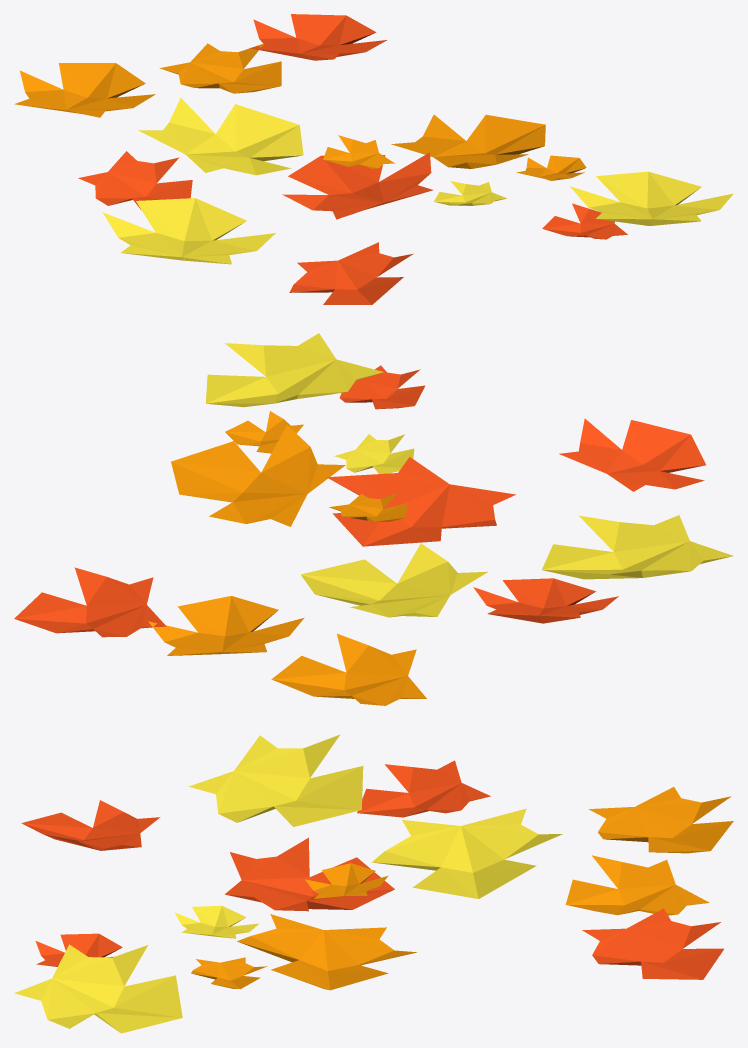
File: leaf_group1.obj
The picture shows the model from 3 angles, top to bottom: view 1: azimuth 30°, elevation 25°; view 2: azimuth 150°, elevation 25°; view 3: azimuth 270°, elevation 25°; orthographic projection. The views are drawn at different scales.
Parts seen in each view (by area): view 1: group1173903527.006, group1173903527.008, group1173903527.001, group1173903527.003, group1173903527.002, group1173903527.011, group1173903527.012, group1173903527.007, group1173903527.005, group1173903527.004, group1173903527.010, group1173903527.023 (+2 smaller); view 2: group1173903527.002, group1173903527.001, group1173903527.008, group1173903527.003, group1173903527.006, group1173903527.012, group1173903527.011, group1173903527.007, group1173903527.005, group1173903527.004, group1173903527.010, group1173903527.020 (+2 smaller); view 3: group1173903527.008, group1173903527.006, group1173903527.003, group1173903527.002, group1173903527.007, group1173903527.011, group1173903527.001, group1173903527.005, group1173903527.004, group1173903527.012, group1173903527.023, group1173903527.020 (+2 smaller).
Boxes of the visible parts, x1,y1,x2,y2 form: group1173903527.006: [138, 97, 303, 175]; group1173903527.008: [102, 198, 275, 264]; group1173903527.001: [282, 152, 433, 219]; group1173903527.003: [570, 171, 733, 225]; group1173903527.002: [391, 114, 545, 168]; group1173903527.011: [14, 63, 155, 117]; group1173903527.012: [289, 242, 413, 304]; group1173903527.007: [250, 14, 386, 60]; group1173903527.005: [159, 43, 281, 93]; group1173903527.004: [78, 151, 192, 210]; group1173903527.010: [542, 203, 627, 239]; group1173903527.023: [323, 135, 394, 168]; group1173903527.002: [171, 425, 345, 526]; group1173903527.001: [327, 457, 515, 546]; group1173903527.008: [542, 515, 733, 579]; group1173903527.003: [205, 333, 383, 407]; group1173903527.006: [300, 543, 488, 617]; group1173903527.012: [559, 418, 705, 491]; group1173903527.011: [271, 633, 426, 705]; group1173903527.007: [14, 567, 166, 637]; group1173903527.005: [148, 596, 304, 655]; group1173903527.004: [473, 578, 618, 623]; group1173903527.010: [339, 365, 424, 409]; group1173903527.020: [334, 434, 414, 473]; group1173903527.008: [189, 734, 363, 826]; group1173903527.006: [371, 808, 562, 898]; group1173903527.003: [14, 944, 182, 1033]; group1173903527.002: [237, 914, 416, 990]; group1173903527.007: [582, 908, 723, 979]; group1173903527.011: [588, 787, 733, 853]; group1173903527.001: [224, 837, 394, 911]; group1173903527.005: [565, 855, 709, 915]; group1173903527.004: [357, 760, 490, 817]; group1173903527.012: [21, 800, 160, 850]; group1173903527.023: [305, 863, 388, 898]; group1173903527.020: [174, 905, 259, 938].
Size of the model in its own units: 2.62 by 0.1928 by 2.79.
3 materials, 3 textured.
